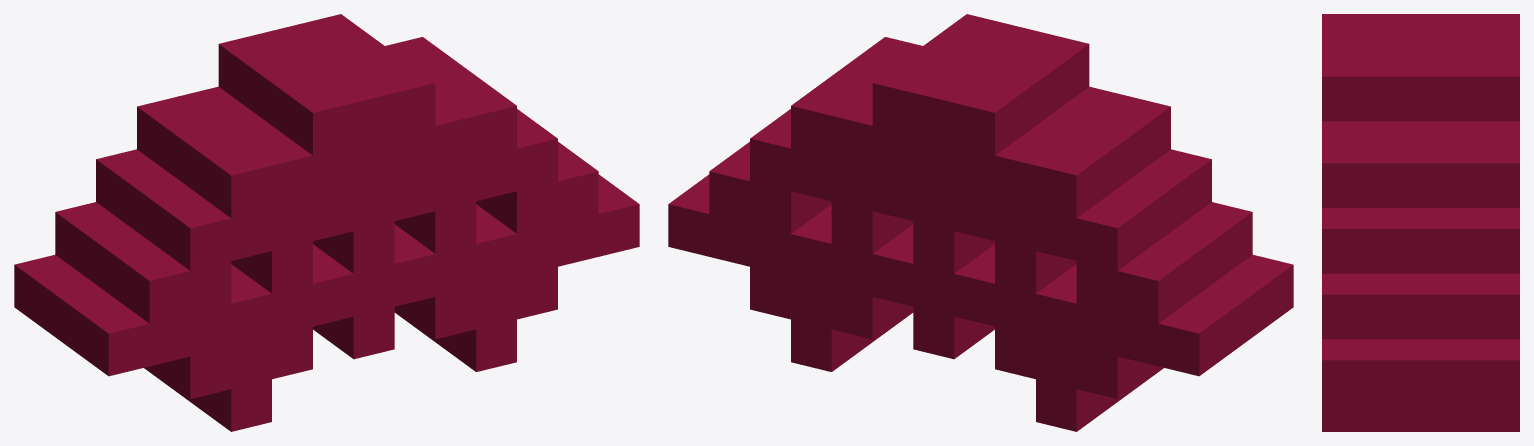
3 renders of one model, left to right at view 1: azimuth 30°, elevation 25°; view 2: azimuth 150°, elevation 25°; view 3: azimuth 270°, elevation 25°, orthographic. The views are drawn at different scales.
Visible parts, largest first — view 1: generated; view 2: generated; view 3: generated.
Boxes of the visible parts, x1,y1,x2,y2 form: generated: (14,14,639,431); generated: (668,14,1293,431); generated: (1322,14,1519,431).
Size of the model in its own units: 130 by 70 by 40.
